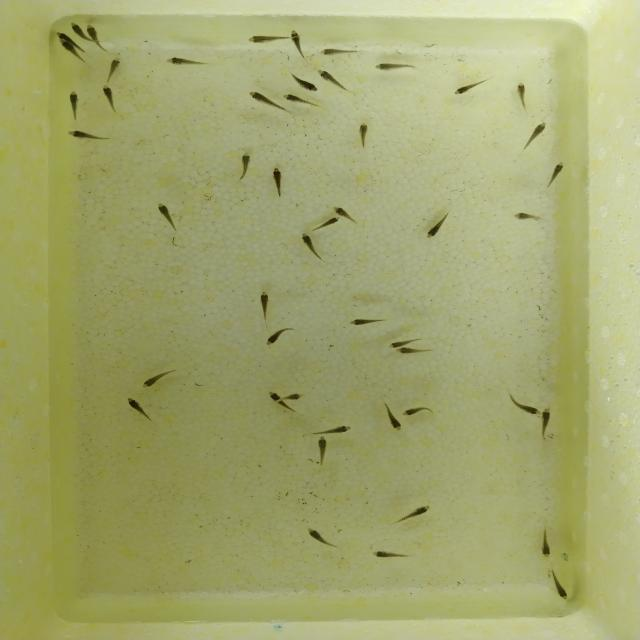fingerling: (514, 119, 553, 153), (122, 394, 163, 426), (390, 502, 437, 526), (301, 522, 339, 550), (447, 76, 495, 98), (420, 210, 453, 242), (156, 53, 208, 71), (61, 127, 111, 145), (151, 200, 180, 230), (140, 368, 181, 389), (298, 232, 324, 265), (266, 166, 292, 198), (508, 390, 540, 416), (258, 325, 296, 346), (548, 565, 569, 603), (364, 546, 415, 561), (535, 524, 556, 560), (315, 43, 361, 59), (98, 84, 122, 114), (277, 94, 327, 108), (234, 151, 255, 184), (511, 79, 533, 110), (369, 61, 419, 74), (254, 290, 275, 320), (377, 408, 403, 432), (66, 89, 84, 123), (60, 37, 82, 64), (342, 314, 391, 326), (545, 160, 566, 187), (540, 408, 560, 436), (102, 58, 125, 82), (314, 437, 333, 466), (306, 424, 356, 435), (288, 29, 306, 59), (355, 120, 373, 150), (244, 33, 282, 47), (244, 90, 274, 107), (402, 402, 435, 417), (290, 78, 320, 94), (310, 217, 342, 232), (314, 67, 342, 83), (508, 210, 544, 222), (390, 348, 430, 358), (385, 337, 424, 347), (326, 203, 352, 216), (261, 390, 283, 404), (68, 22, 86, 38), (286, 390, 310, 402), (86, 22, 102, 38)
